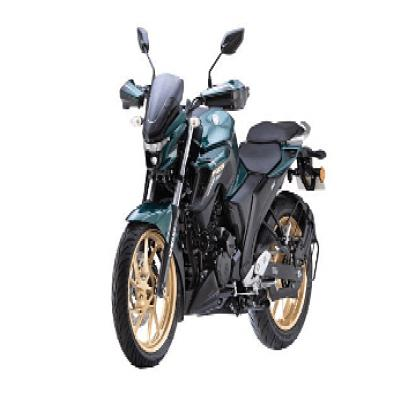bike: (104, 21, 329, 367)
